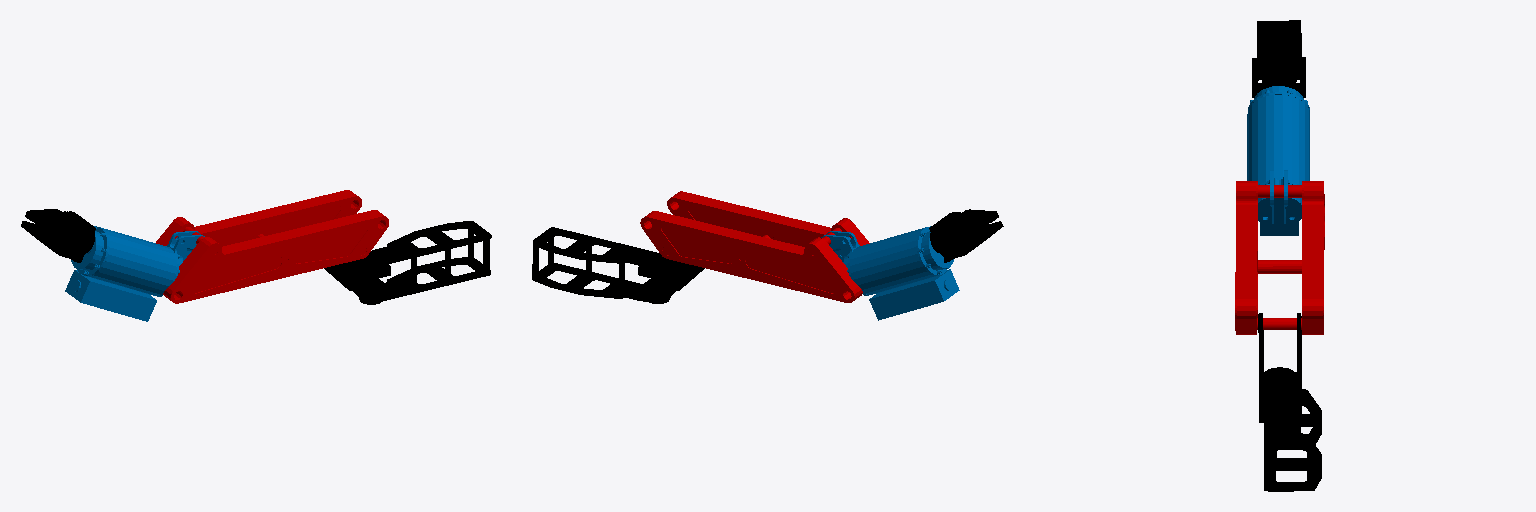
robot.urdf — girona500:
<?xml version="1.0"?>
<robot name="girona500">

  <link name="base_link">
    <visual>
      <origin rpy="-1.57 0 3.14" xyz="-0.2 0 0.75"/>
      <geometry>
        <mesh filename="robot/GIRONA500/g500_March11.stl"/>
      </geometry>
    </visual>
  </link>

  <link name="part0">
    <visual>
      <origin rpy="0.0 0 0" xyz="0 0 0"/>
      <geometry>
        <mesh filename="robot/ARM5E/ARM5E_part0.dae"/>
      </geometry>
    </visual>
  </link>

  <joint name="baselink_to_part0" type="fixed">
    <parent link="base_link"/>
    <child link="part0"/>
    <origin rpy="3.14 0 3.14" xyz="0 0 0.95"/>
  </joint>

 <link name="part1">
    <visual>
      <origin rpy="0 0 0" xyz="0.0 0 0"/>
      <geometry>
        <mesh filename="robot/ARM5E/ARM5E_part1.dae"/>
      </geometry>
    </visual>
  </link>

  <joint name="part0_to_part1" type="continuous">
    <parent link="part0"/>
    <child link="part1"/>
    <axis xyz="0 0 -1"/>
    <origin rpy="0 0 0" xyz="0 0 0"/>
  </joint>

 <link name="part2">
    <visual>
      <origin rpy="0 -0.209 0" xyz="0 0 0"/>
      <geometry>
        <mesh filename="robot/ARM5E/ARM5E_part2.dae"/>
      </geometry>
    </visual>
  </link>

  <joint name="part1_to_part2" type="continuous">
    <parent link="part1"/>
    <child link="part2"/>
    <axis xyz="0 1 0"/>
    <origin rpy="0 0.209 0" xyz="0.077 0 -0.130"/>
  </joint>

 <link name="part3">
    <visual>
      <origin rpy="0 0 0" xyz="0 0 0"/>
      <geometry>
        <mesh filename="robot/ARM5E/ARM5E_part3.stl"/>
      </geometry>
    </visual>
  </link>

  <joint name="part2_to_part3" type="continuous">
    <parent link="part2"/>
    <child link="part3"/>
    <axis xyz="0 1 0"/>
    <origin rpy=" 0 0.262 0 " xyz="0.44278 0 0"/>
  </joint>

  <link name="part4_base">
    <visual>
      <origin rpy="0 0 0" xyz="0 0 0"/>
      <geometry>
        <mesh filename="robot/ARM5E/ARM5E_part4_base.dae"/>
      </geometry>
    </visual>
  </link>

  <joint name="part3_to_part4_base" type="continuous">
    <parent link="part3"/>
    <child link="part4_base"/>
    <axis xyz="1 0 0"/>
    <origin rpy="0 0 0" xyz="0.320 0 0.077 "/>
  </joint>


  <link name="part4_jaw1">
    <visual>
      <origin rpy="0 0 0" xyz="0 0 0"/>
      <geometry>
        <mesh filename="robot/ARM5E/ARM5E_part4_jaw1.dae"/>
      </geometry>
    </visual>
  </link>

  <joint name="part4_to_part4_jaw1" type="continuous">
    <parent link="part4_base"/>
    <child link="part4_jaw1"/>
    <axis xyz="0 -1 0"/>
    <origin rpy="0 0 0" xyz="0.07 0 0.04"/>
  </joint>


  <link name="part4_jaw2">
    <visual>
      <origin rpy="0 0 0" xyz="0 0 0"/>
      <geometry>
        <mesh filename="robot/ARM5E/ARM5E_part4_jaw2.dae"/>
      </geometry>
    </visual>
  </link>

  <joint name="part4_to_part4_jaw2" type="continuous">
    <parent link="part4_base"/>
    <child link="part4_jaw2"/>
    <axis xyz="0 1 0"/>
    <origin rpy="0 0 0" xyz="0.07 0 -0.04"/>
    <mimic joint="part4_to_part4_jaw1" multiplier="1" offset="0"/>
  </joint>

</robot>

--- Facts derived from the render (not from the file) ---
Views: 3 orthographic renders of the robot side by side, from view 1: azimuth 30°, elevation 25°; view 2: azimuth 150°, elevation 25°; view 3: azimuth 270°, elevation 25°.
Robot: girona500 — 8 links, 7 joints (6 continuous, 1 fixed); root link base_link; default pose: all joints at 0.
Visible links, largest first — view 1: part2, part3, part0, part1, part4_base, part4_jaw2, part4_jaw1; view 2: part2, part3, part0, part1, part4_base, part4_jaw2, part4_jaw1; view 3: part2, part3, part0, part4_base, part4_jaw2, part1.
Link boxes in pixels (x1,y1,x2,y2): part2: (156, 190, 388, 303); part3: (65, 226, 204, 321); part0: (359, 221, 491, 304); part1: (324, 260, 390, 302); part4_base: (61, 211, 95, 262); part4_jaw2: (25, 209, 76, 237); part4_jaw1: (21, 221, 68, 256); part2: (640, 191, 869, 302); part3: (821, 226, 959, 320); part0: (532, 227, 670, 303); part1: (638, 260, 704, 301); part4_base: (929, 212, 963, 262); part4_jaw2: (947, 209, 998, 237); part4_jaw1: (956, 221, 1003, 255); part2: (1235, 181, 1324, 334); part3: (1247, 86, 1309, 235); part0: (1264, 367, 1321, 491); part4_base: (1252, 49, 1305, 97); part4_jaw2: (1257, 20, 1300, 60); part1: (1258, 313, 1301, 422).
Size in the robot's own frame: 1.33 by 0.183 by 0.4588 metres.
7 mesh visuals loaded from 8 distinct referenced files (1 binary STL, 6 Collada DAE); not drawn: 1 (reference not matched to a file when rendering).